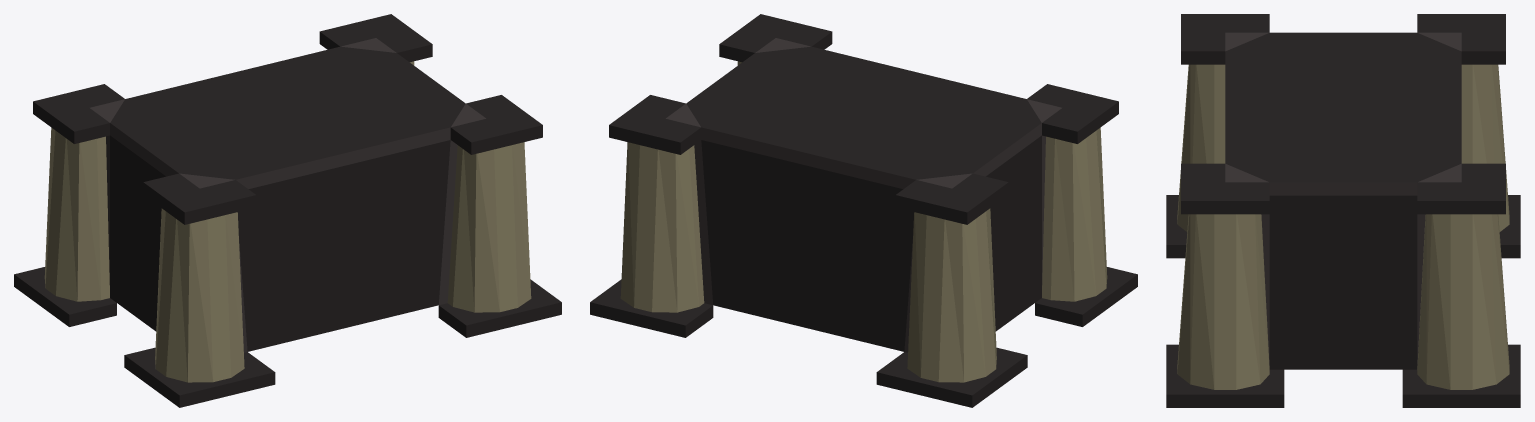
The model's file is obj_table_16_0.obj.
3 views of the same model, side by side, from view 1: azimuth 30°, elevation 25°; view 2: azimuth 150°, elevation 25°; view 3: azimuth 270°, elevation 25° (orthographic). The views are drawn at different scales.
Size of the model in its own units: 2 by 0.9375 by 1.5.
